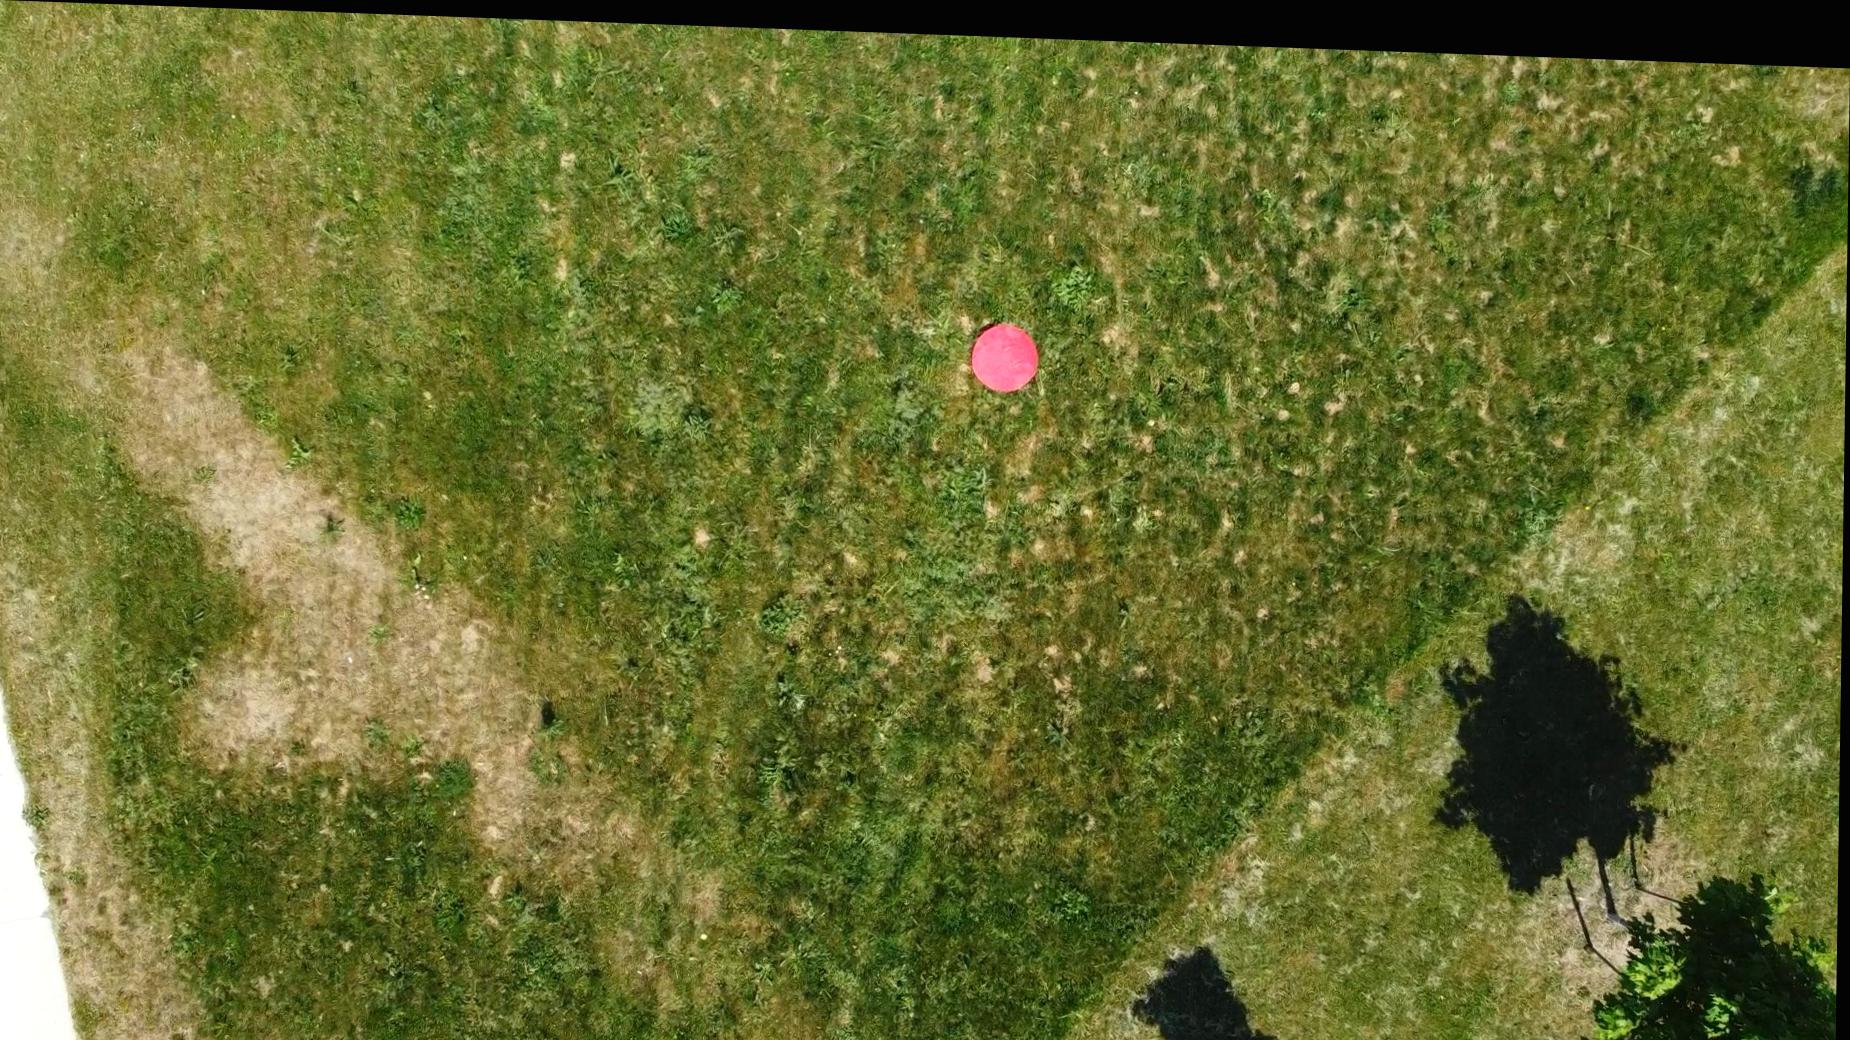Red: (969, 312, 1043, 387)
